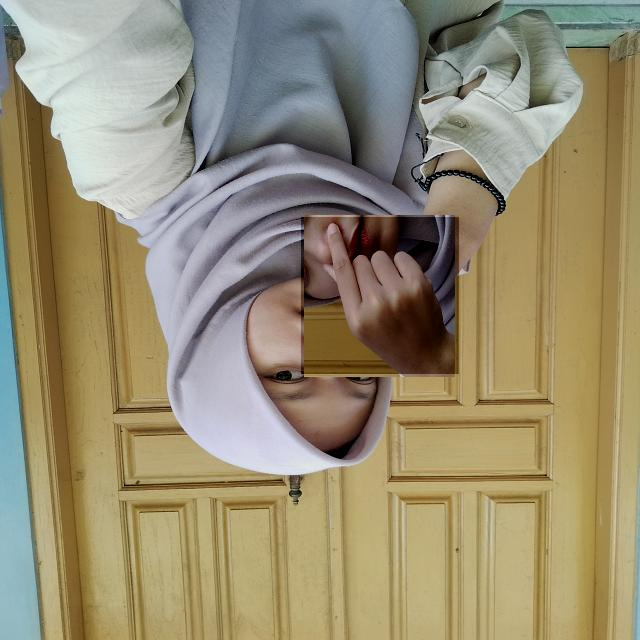bau: (301, 217, 459, 374)
